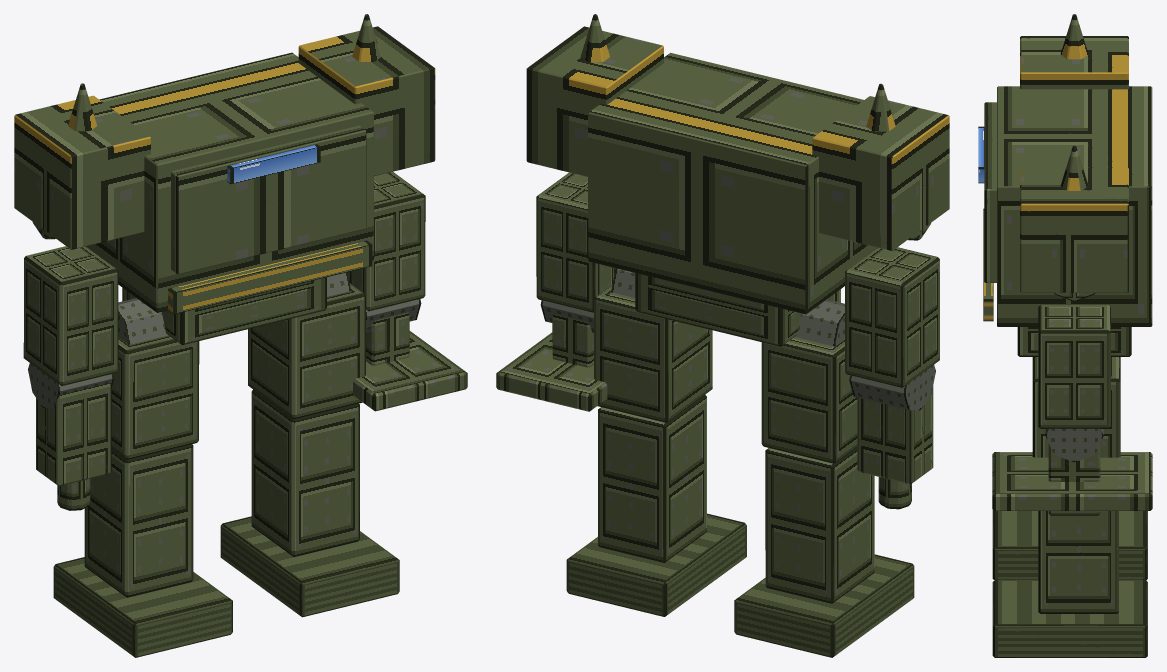
The model's file is mech_bastion.glb.
3 views of the same model, side by side, from view 1: azimuth 30°, elevation 25°; view 2: azimuth 150°, elevation 25°; view 3: azimuth 270°, elevation 25° (orthographic). The views are drawn at different scales.
Visible parts, largest first — view 1: Torso-head, L_shin, R_shin, R_upper_arm, L_thigh, L_foot, R_foot, R_thigh, R_forearm, L_upper_arm, L_forearm, jug_trim (+5 smaller); view 2: Torso-head, L_shin, R_shin, R_upper_arm, L_thigh, R_thigh, R_foot, L_foot, L_upper_arm, R_forearm, L_forearm, root_Pelvis (+3 smaller); view 3: Torso-head, L_foot, L_forearm, L_upper_arm, L_shin, R_foot, L_thigh, L_elbow, root_Pelvis, jug_trim, jug_visor.
Part boxes in pixels (bbox=[...]): Torso-head: bbox=[14, 14, 435, 312]; L_shin: bbox=[251, 389, 359, 556]; R_shin: bbox=[84, 444, 193, 597]; R_upper_arm: bbox=[23, 246, 118, 385]; L_thigh: bbox=[248, 283, 365, 419]; L_foot: bbox=[220, 516, 399, 617]; R_foot: bbox=[53, 557, 232, 657]; R_thigh: bbox=[111, 335, 199, 459]; R_forearm: bbox=[36, 383, 111, 510]; L_upper_arm: bbox=[347, 171, 425, 311]; L_forearm: bbox=[353, 312, 467, 411]; jug_trim: bbox=[168, 240, 372, 314]; Torso-head: bbox=[526, 14, 949, 314]; L_shin: bbox=[598, 394, 706, 562]; R_shin: bbox=[765, 447, 874, 603]; R_upper_arm: bbox=[845, 247, 939, 387]; L_thigh: bbox=[594, 284, 712, 422]; R_thigh: bbox=[761, 337, 857, 463]; R_foot: bbox=[734, 554, 914, 657]; L_foot: bbox=[566, 513, 746, 616]; L_upper_arm: bbox=[536, 172, 615, 312]; R_forearm: bbox=[857, 386, 933, 509]; L_forearm: bbox=[496, 313, 607, 411]; root_Pelvis: bbox=[635, 273, 840, 346]; Torso-head: bbox=[984, 14, 1152, 326]; L_foot: bbox=[992, 580, 1147, 657]; L_forearm: bbox=[992, 443, 1152, 515]; L_upper_arm: bbox=[1038, 305, 1110, 428]; L_shin: bbox=[1038, 511, 1118, 613]; R_foot: bbox=[992, 509, 1147, 580]; L_thigh: bbox=[1032, 357, 1120, 457]; L_elbow: bbox=[1045, 428, 1103, 462]; root_Pelvis: bbox=[1017, 327, 1131, 356]; jug_trim: bbox=[983, 208, 993, 321]; jug_visor: bbox=[978, 126, 984, 183].
Bounding box in the file's own units: 24.3 × 33.07 × 10.11.
Materials: 1 (1 with a texture image).
